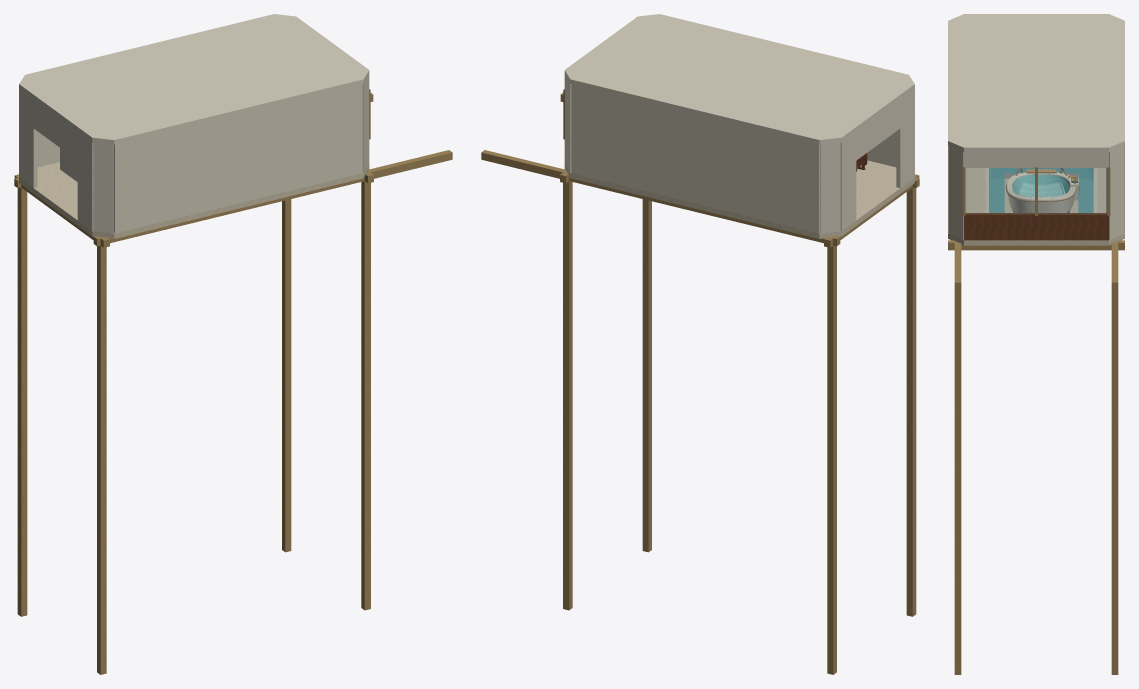
File: D04_PORT_CENTRAL_HOME_893_r001.glb
3 renders of one model, left to right at view 1: azimuth 30°, elevation 25°; view 2: azimuth 150°, elevation 25°; view 3: azimuth 270°, elevation 25°, orthographic.
Visible parts, largest first — view 1: PC893_D04H892_Roof, PC893_D04H892_Shell_3, PC893_D04H892_Pier_5, PC893_D04H892_Pier_6, PC893_D04H892_Pier_8, PC893_D04H892_Floor, PC893_D04H892_Pier_7, PC893_D04H892_FloorCross_1, PC893_D04H892_Shell_2, PC893_D04H892_EntryWall_0, PC893_D04H892_EntryWall_1, PC893_D04H892_EntryHeader (+1 smaller); view 2: PC893_D04H892_Roof, PC893_D04H892_Shell_7, PC893_D04H892_Pier_6, PC893_D04H892_Pier_5, PC893_D04H892_Pier_7, PC893_D04H892_Floor, PC893_D04H892_Pier_8, PC893_D04H892_FloorCross_0, PC893_D04H892_Shell_0, PC893_D04H892_EntryWall_1, PC893_D04H892_EntryWall_0, PC893_D04H892_EntryHeader (+2 smaller); view 3: PC893_D04H892_Roof, PC893_D04H892_GardenGlass, PC893_D04H892_GardenDado, PC893_D04H892_Pier_7, PC893_D04H892_Pier_8, PC893_D04H892_Floor, PC893_D04H892_GardenHead, PC893_ReservedAquaticRest__Hollow continuous basin shell wit, PC893_D04H892_Water_0, PC893_D04H892_Shell_4, PC893_D04H892_Shell_6, PC893_D04H892_Long_-29.35 (+5 smaller).
Boxes of the visible parts, bbox=[...] form: PC893_D04H892_Roof: bbox=[19, 14, 369, 144]; PC893_D04H892_Shell_3: bbox=[114, 84, 362, 233]; PC893_D04H892_Pier_5: bbox=[17, 187, 27, 616]; PC893_D04H892_Pier_6: bbox=[97, 236, 106, 674]; PC893_D04H892_Pier_8: bbox=[361, 181, 370, 610]; PC893_D04H892_Floor: bbox=[19, 162, 369, 238]; PC893_D04H892_Pier_7: bbox=[282, 199, 291, 552]; PC893_D04H892_FloorCross_1: bbox=[93, 150, 452, 246]; PC893_D04H892_Shell_2: bbox=[93, 142, 113, 233]; PC893_D04H892_EntryWall_0: bbox=[19, 89, 37, 187]; PC893_D04H892_EntryWall_1: bbox=[77, 132, 93, 230]; PC893_D04H892_EntryHeader: bbox=[33, 99, 77, 160]; PC893_D04H892_Roof: bbox=[564, 14, 914, 144]; PC893_D04H892_Shell_7: bbox=[571, 84, 819, 233]; PC893_D04H892_Pier_6: bbox=[906, 187, 916, 616]; PC893_D04H892_Pier_5: bbox=[827, 237, 836, 674]; PC893_D04H892_Pier_7: bbox=[563, 181, 572, 610]; PC893_D04H892_Floor: bbox=[564, 160, 914, 238]; PC893_D04H892_Pier_8: bbox=[642, 199, 651, 552]; PC893_D04H892_FloorCross_0: bbox=[481, 150, 840, 246]; PC893_D04H892_Shell_0: bbox=[820, 142, 840, 233]; PC893_D04H892_EntryWall_1: bbox=[896, 89, 914, 187]; PC893_D04H892_EntryWall_0: bbox=[840, 132, 856, 230]; PC893_D04H892_EntryHeader: bbox=[856, 99, 900, 160]; PC893_D04H892_Roof: bbox=[948, 14, 1124, 152]; PC893_D04H892_GardenGlass: bbox=[966, 168, 1106, 213]; PC893_D04H892_GardenDado: bbox=[964, 213, 1108, 240]; PC893_D04H892_Pier_7: bbox=[1111, 289, 1118, 674]; PC893_D04H892_Pier_8: bbox=[954, 289, 961, 674]; PC893_D04H892_Floor: bbox=[948, 168, 1124, 245]; PC893_D04H892_GardenHead: bbox=[964, 152, 1108, 167]; PC893_ReservedAquaticRest__Hollow continuous basin shell wit: bbox=[1006, 172, 1075, 212]; PC893_D04H892_Water_0: bbox=[989, 168, 1093, 212]; PC893_D04H892_Shell_4: bbox=[948, 146, 966, 239]; PC893_D04H892_Shell_6: bbox=[1106, 146, 1124, 239]; PC893_D04H892_Long_-29.35: bbox=[948, 240, 1124, 250].
Bounding box in the file's own units: 16.55 × 23.78 × 7.2.
40 materials, 21 textured.
